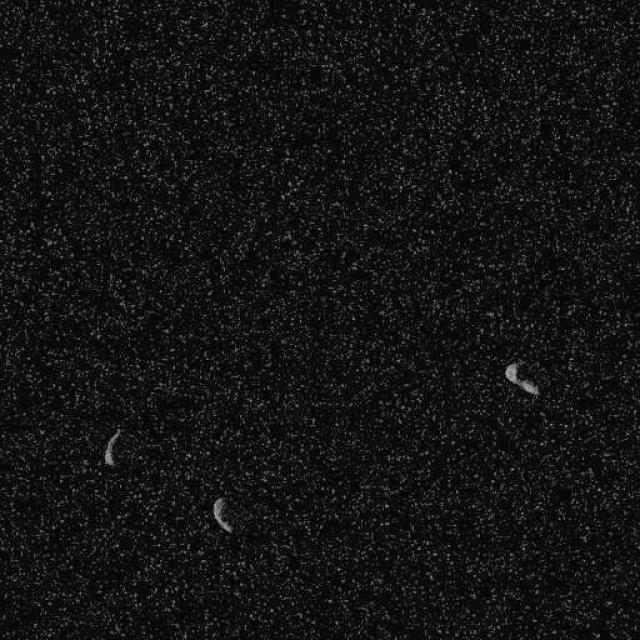D2: (504, 359, 540, 396), (211, 495, 234, 534), (101, 426, 121, 466)
